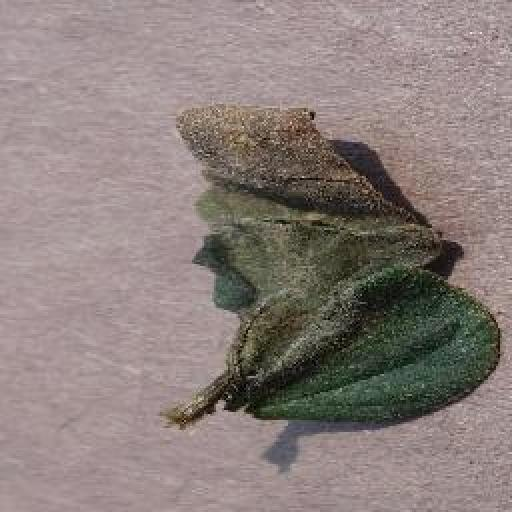disease_tomato: (178, 98, 504, 432)
